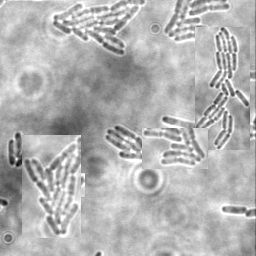Dividing: (221, 204, 248, 215)
Microcolony: (195, 27, 250, 150), (22, 135, 81, 238), (51, 1, 147, 56), (162, 1, 231, 44), (142, 128, 208, 169), (106, 124, 153, 160)
Rod: (65, 173, 85, 197)
